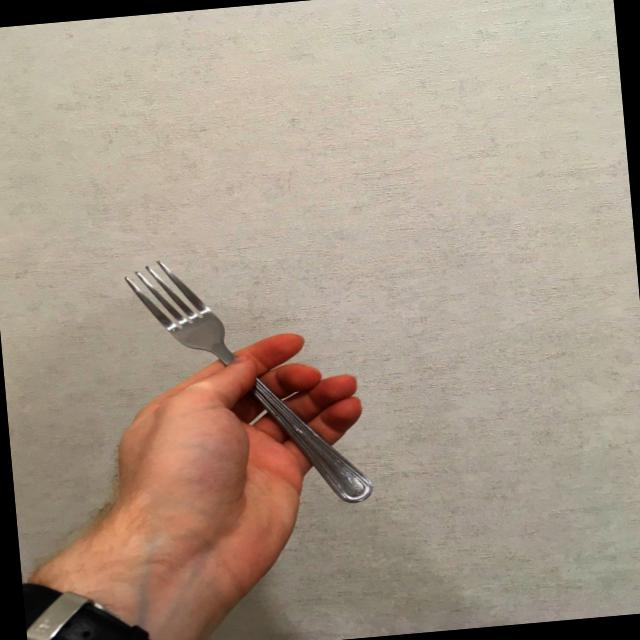fork: (121, 242, 376, 520)
